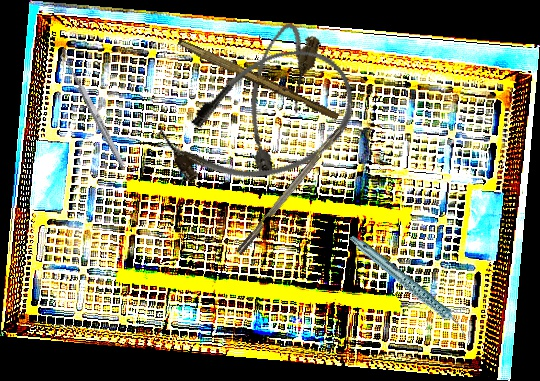Cannula: (148, 30, 373, 212), (228, 19, 324, 180)
Chopper: (228, 101, 362, 256)
Handpiece: (349, 215, 469, 357)
Scalpel Handle: (175, 38, 341, 122)
Surgical Spoon: (59, 51, 127, 168)
